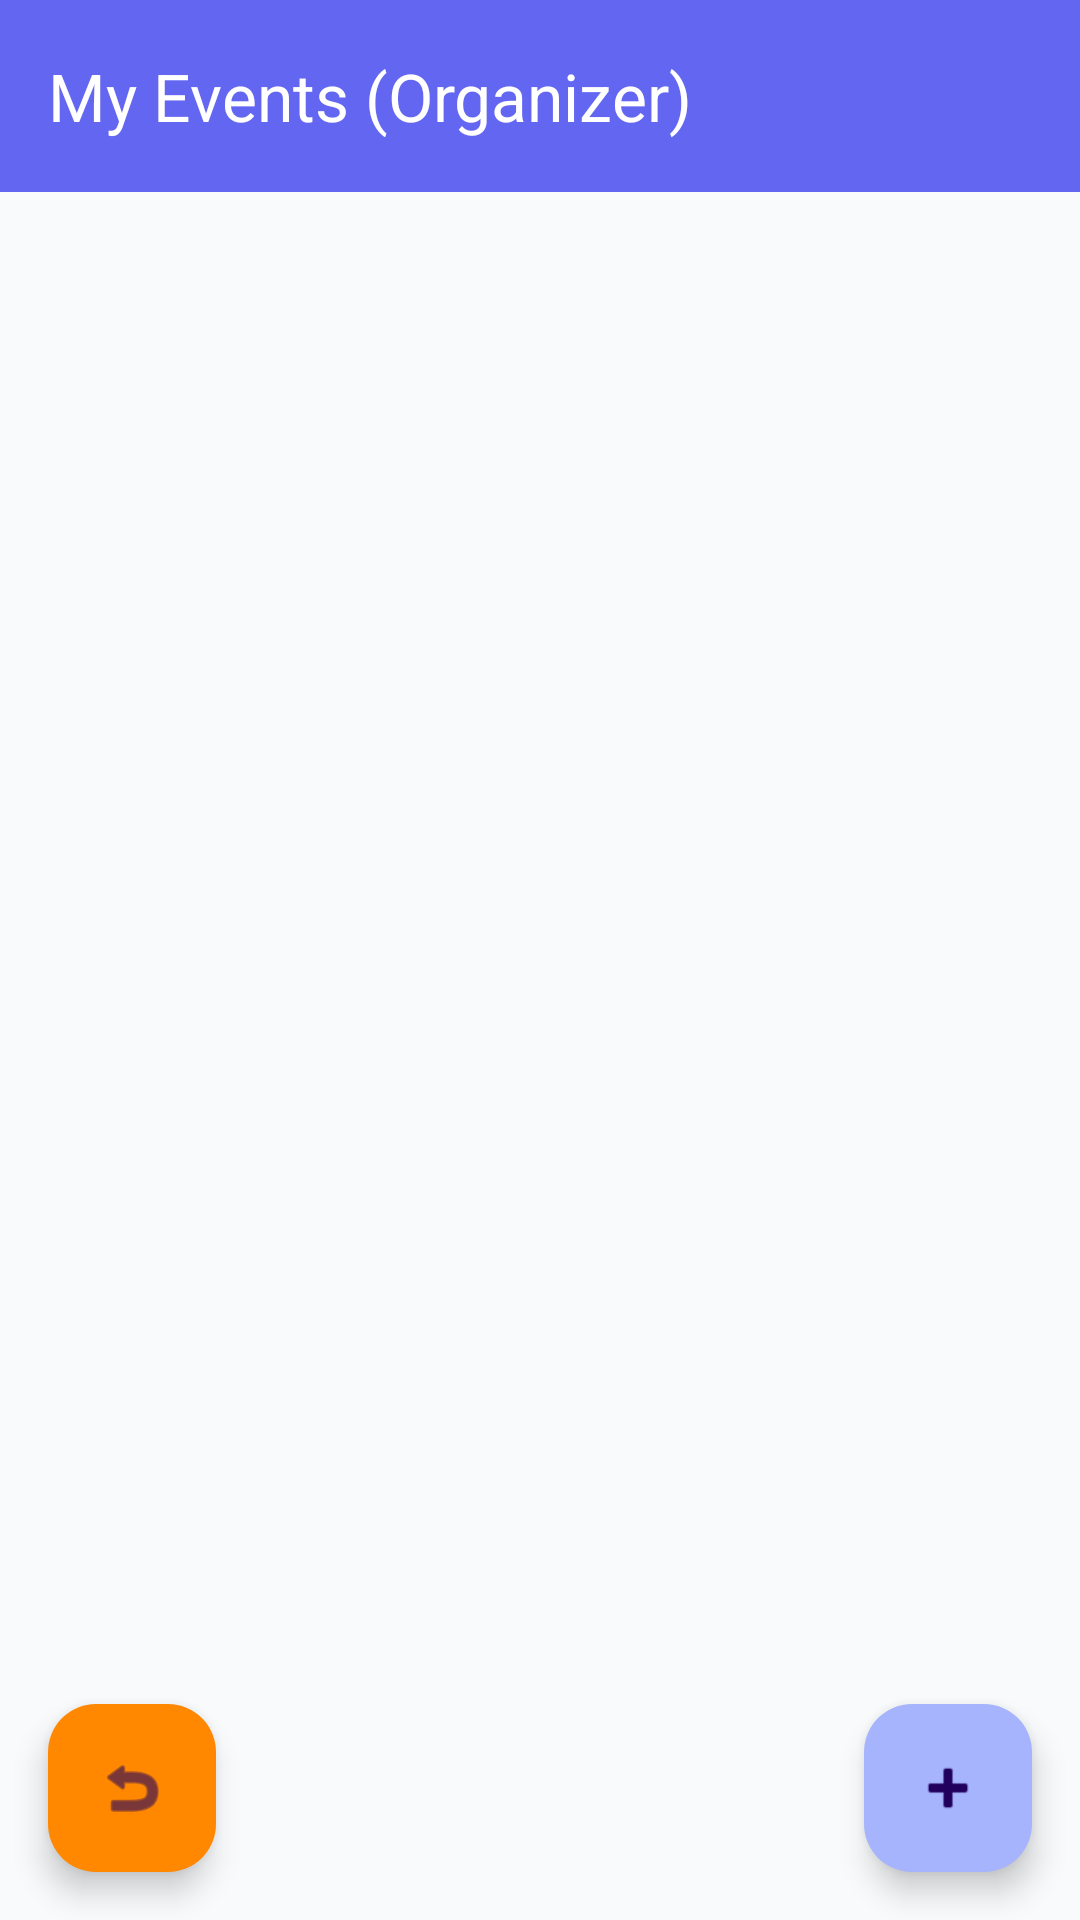

Icons on this 1080*1920 Android screen, each with the point to tap as (x,y):
Create Event: (948,1788)
